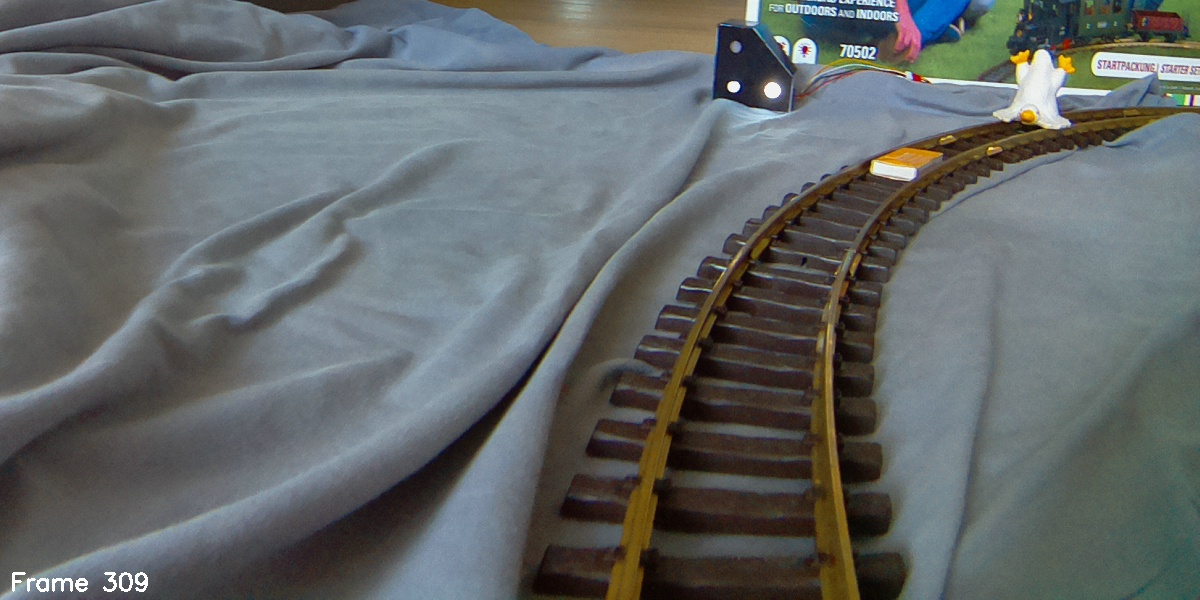Halt: (710, 19, 794, 115)
